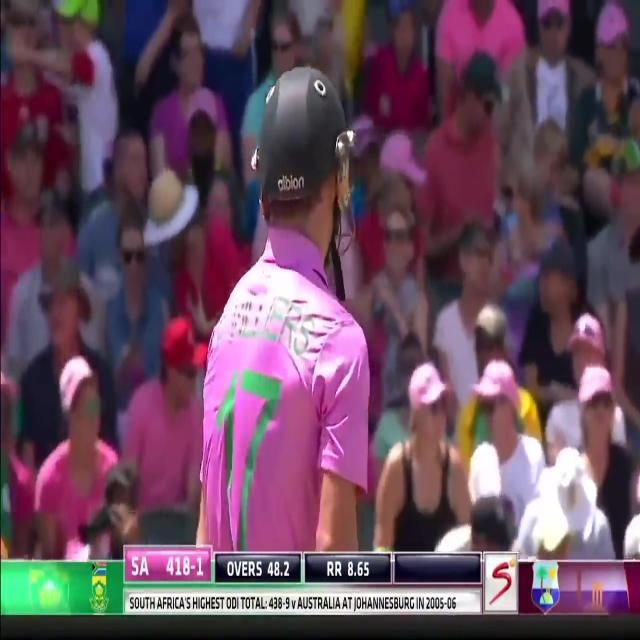Ball: (196, 66, 403, 554)
